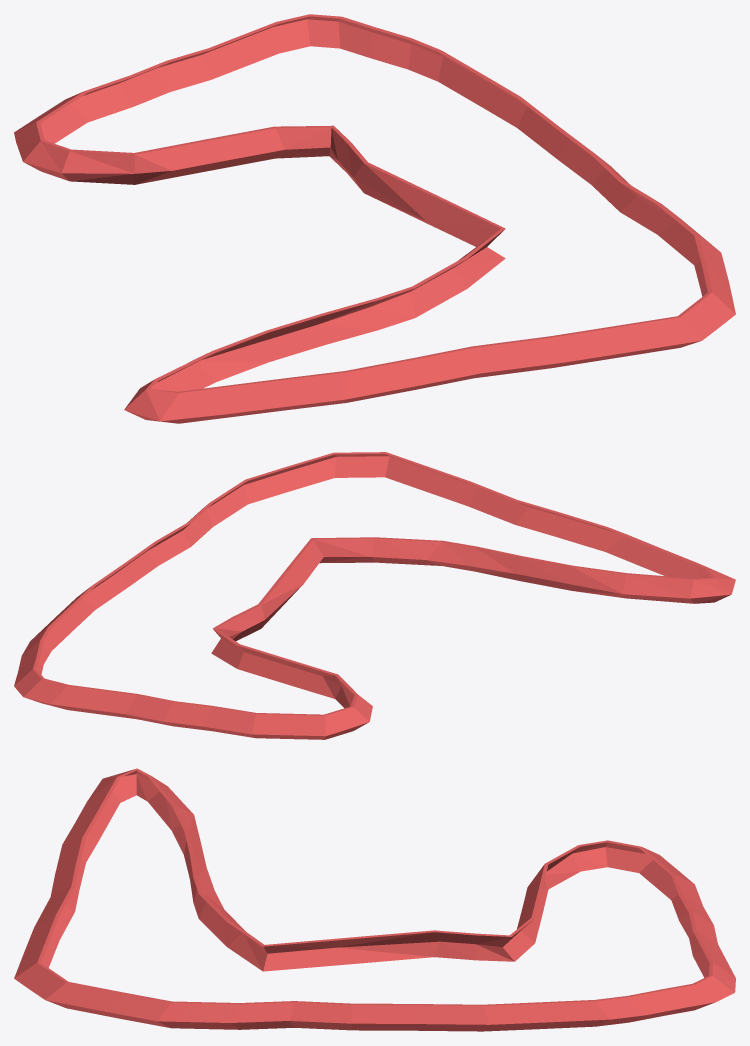
The model's file is test_outline.glb.
3 views of the same model, one above another, from view 1: azimuth 30°, elevation 25°; view 2: azimuth 150°, elevation 25°; view 3: azimuth 270°, elevation 25° (orthographic). The views are drawn at different scales.
Visible parts, largest first — view 1: Rectangle001; view 2: Rectangle001; view 3: Rectangle001.
Part boxes in pixels (x1=…): Rectangle001: x1=14, y1=14, x2=735, y2=423; Rectangle001: x1=14, y1=452, x2=735, y2=739; Rectangle001: x1=14, y1=768, x2=735, y2=1031.
Bounding box in the file's own units: 3.75 × 0.1787 × 4.54.
